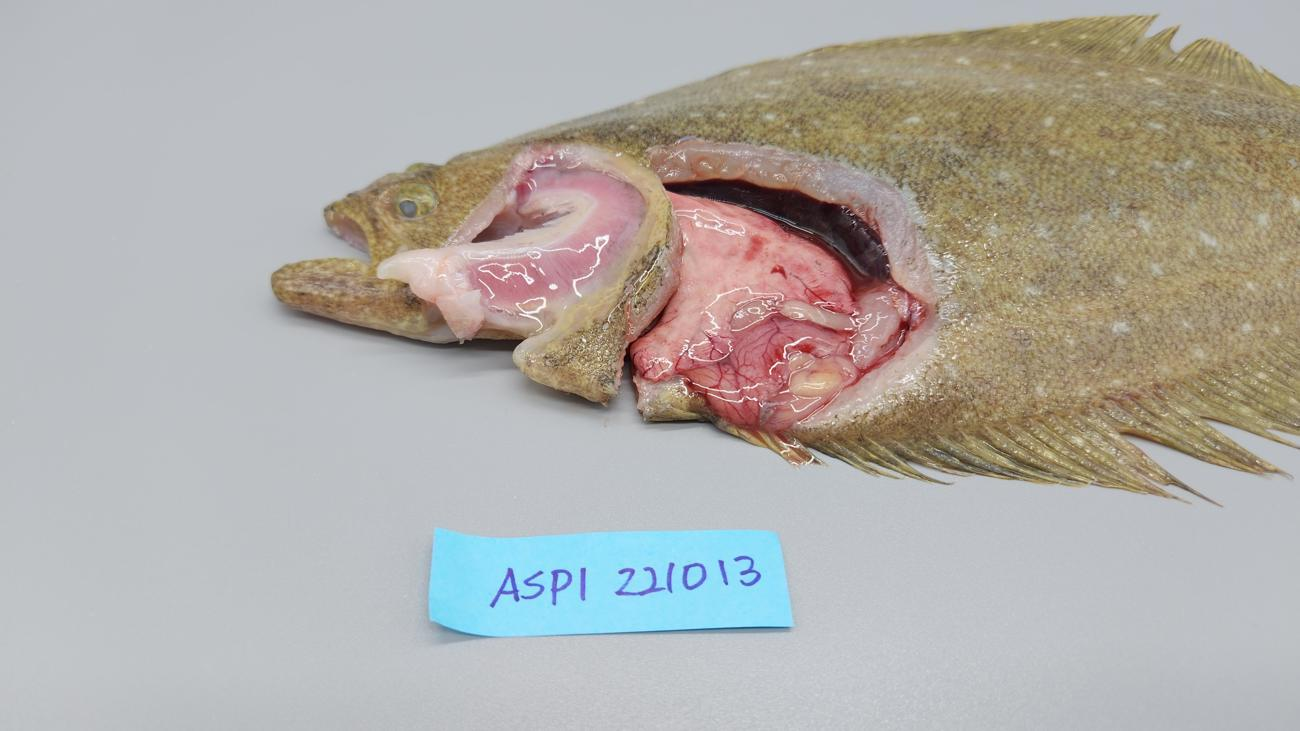SPGIP: (467, 169, 646, 306)
SPLIC: (633, 189, 856, 370)
